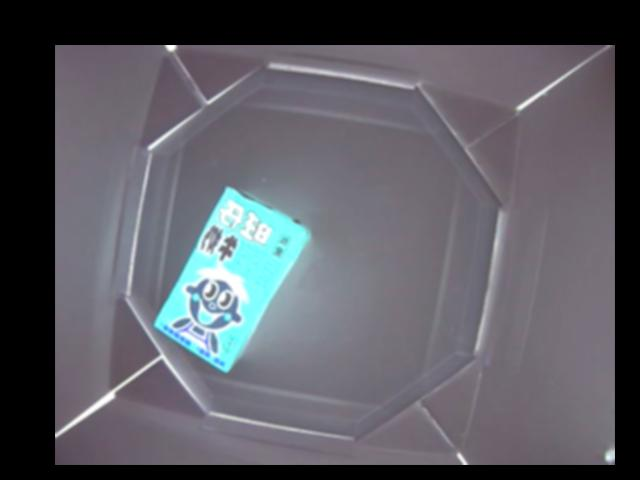Bottle: (151, 186, 308, 373)
